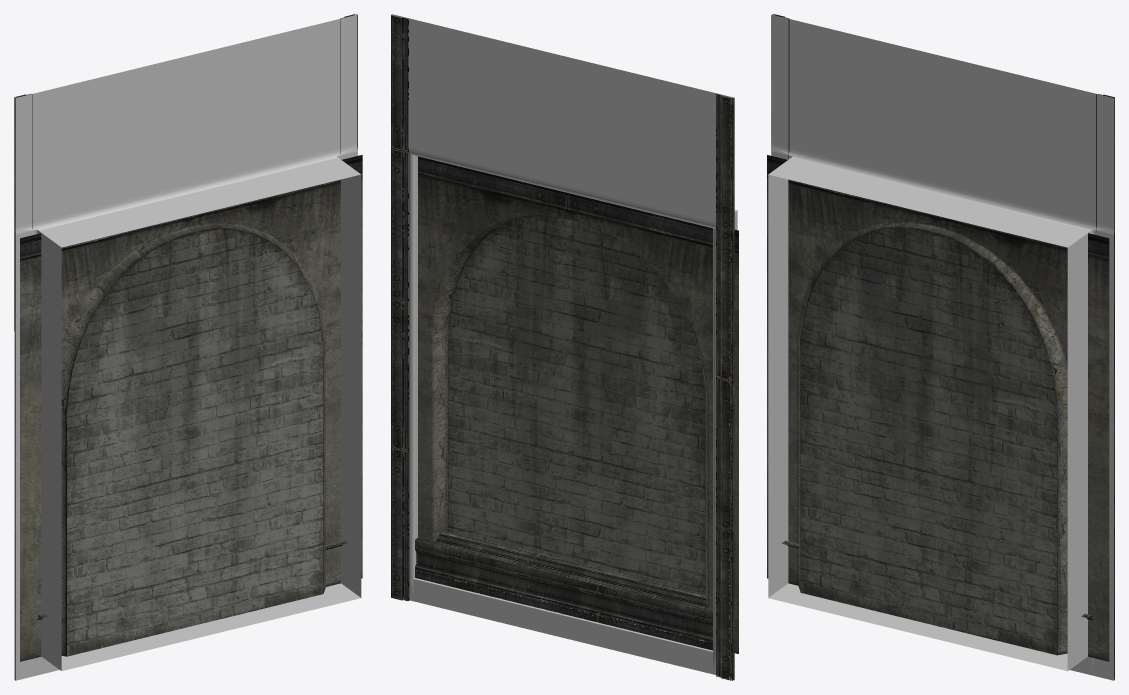
File: tesla_modules1_wall_simple.dae
The picture shows the model from 3 angles, left to right: view 1: azimuth 30°, elevation 25°; view 2: azimuth 150°, elevation 25°; view 3: azimuth 330°, elevation 25°; orthographic projection.
Parts seen in each view (by area): view 1: tesla_modules_doors1_polySurface129, polySurface131, polySurface137; view 2: tesla_modules_doors1_polySurface129, polySurface131, polySurface137; view 3: tesla_modules_doors1_polySurface129, polySurface131, polySurface137.
Boxes of the visible parts, x1,y1,x2,y2 form: tesla_modules_doors1_polySurface129: (20, 155, 362, 661); polySurface131: (15, 14, 361, 680); polySurface137: (14, 14, 357, 680); tesla_modules_doors1_polySurface129: (418, 156, 738, 653); polySurface131: (392, 14, 737, 678); polySurface137: (391, 14, 734, 680); tesla_modules_doors1_polySurface129: (767, 155, 1109, 661); polySurface131: (768, 14, 1114, 680); polySurface137: (771, 14, 1114, 680).
Size of the model in its own units: 4 by 6.5 by 0.5359.
